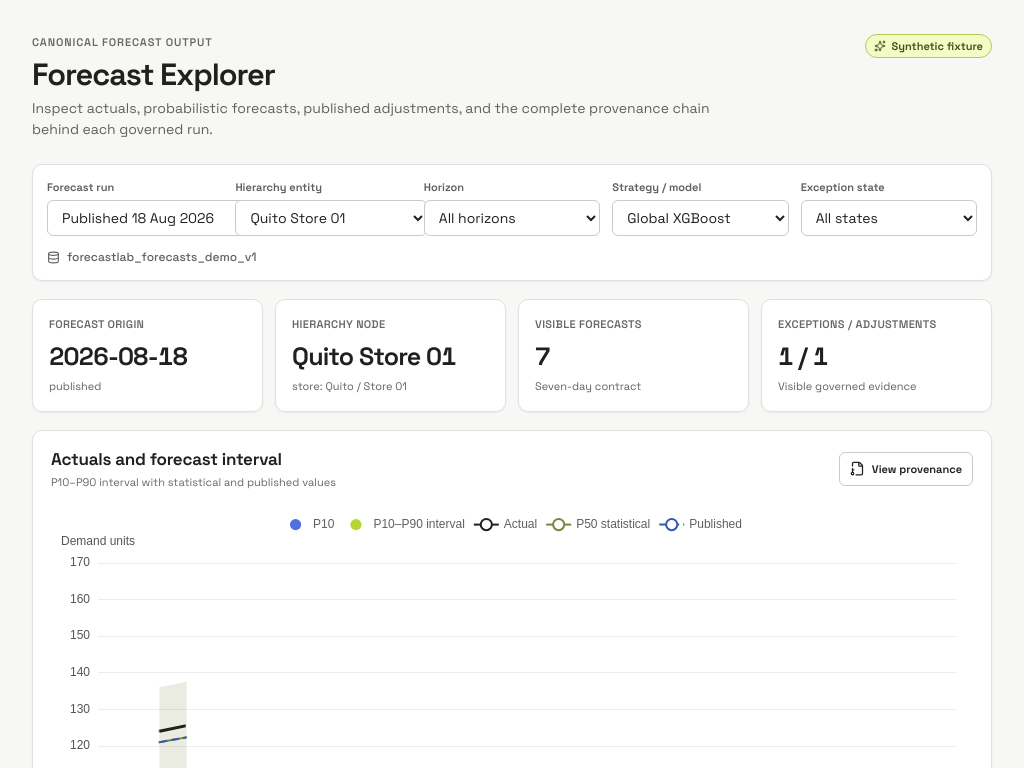
it: ForecastExplorerPage › renders canonical forecasts and complete provenance
Expected: the heading "Forecast Explorer" is shown, [32,54,275,94]
Click the button "View provenance" at (906, 469), box [839,452,973,486]
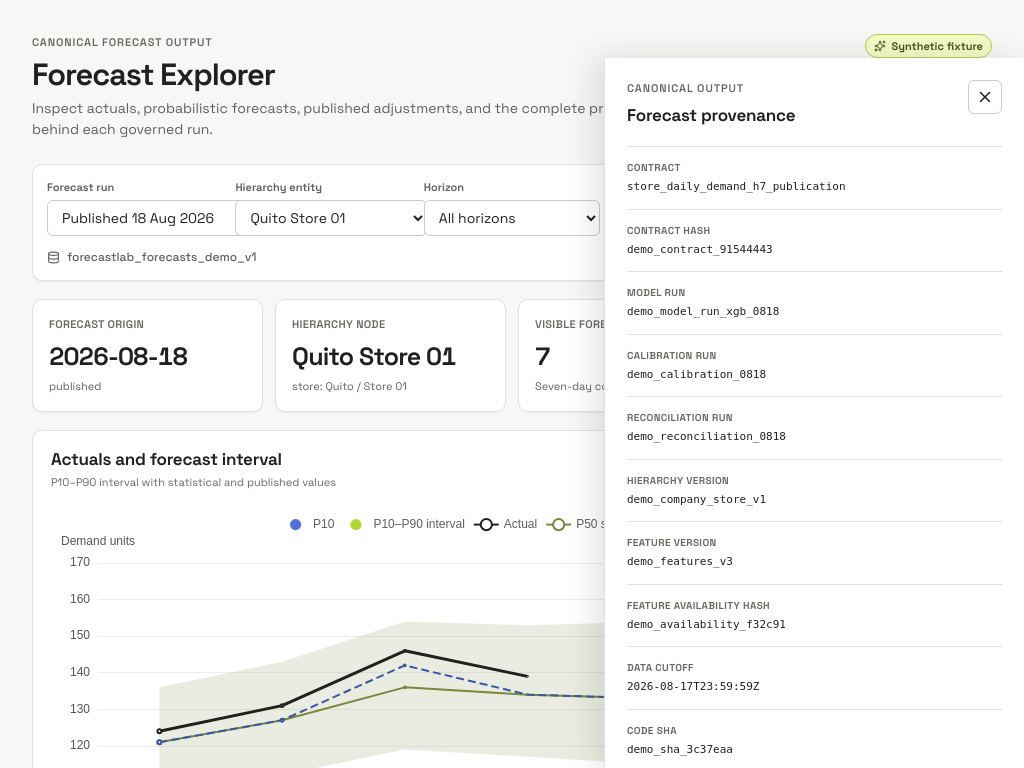
Now the heading "Forecast provenance" is shown, box [627,102,795,128]
Now the text "demo_contract_91544443" is shown, box [627,242,773,256]
Now the text "demo_reconciliation_0818" is shown, box [627,430,786,443]
